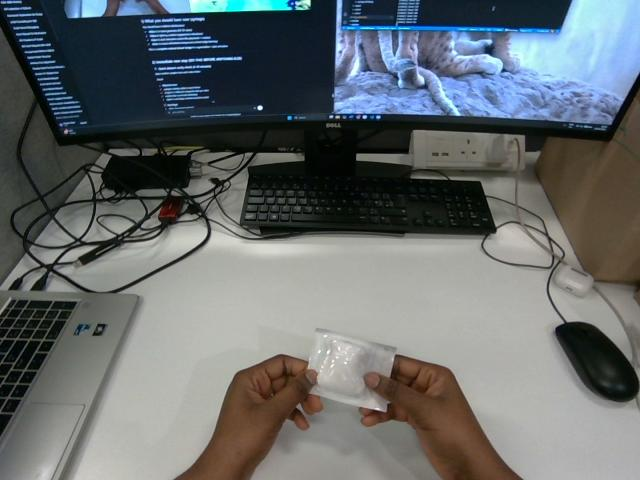gauze: (309, 329, 395, 411)
